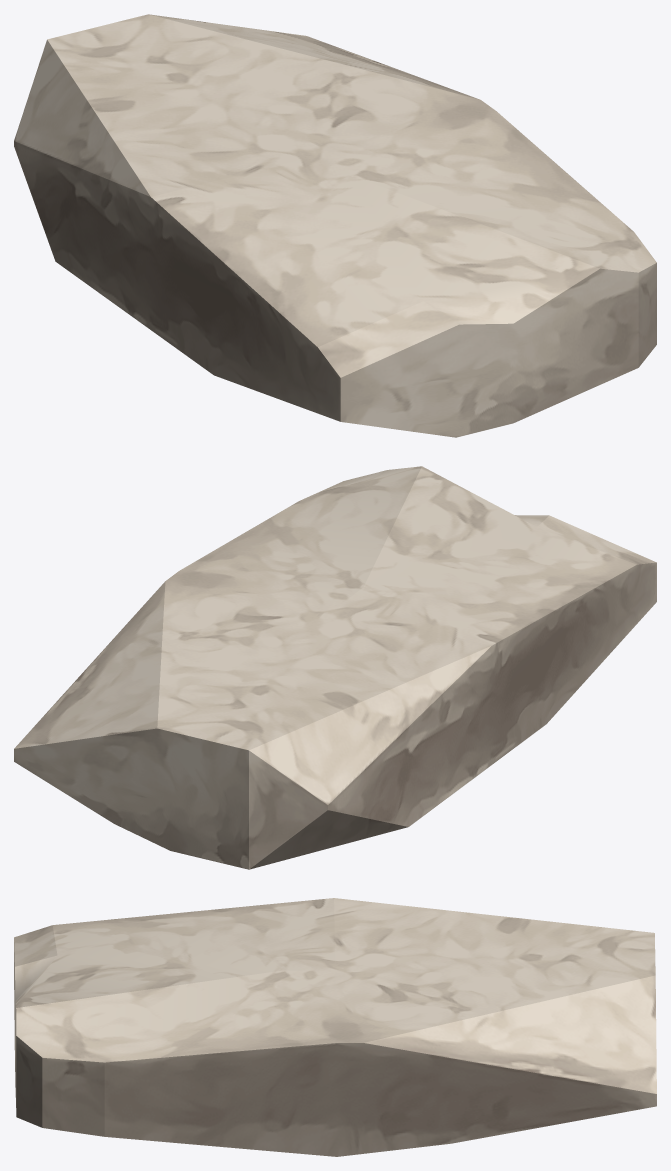
Rendered from ruina_1_top_sredni.obj.
3 views of the same model, one above another, from view 1: azimuth 30°, elevation 25°; view 2: azimuth 150°, elevation 25°; view 3: azimuth 270°, elevation 25° (orthographic). The views are drawn at different scales.
Visible parts, largest first — view 1: Cylinder.007; view 2: Cylinder.007; view 3: Cylinder.007.
Part boxes in pixels (x1=…): Cylinder.007: x1=14, y1=14, x2=656, y2=437; Cylinder.007: x1=14, y1=466, x2=656, y2=869; Cylinder.007: x1=14, y1=898, x2=656, y2=1156.
Bounding box in the file's own units: 12.33 × 4.48 × 22.9.
1 material, 1 textured.
